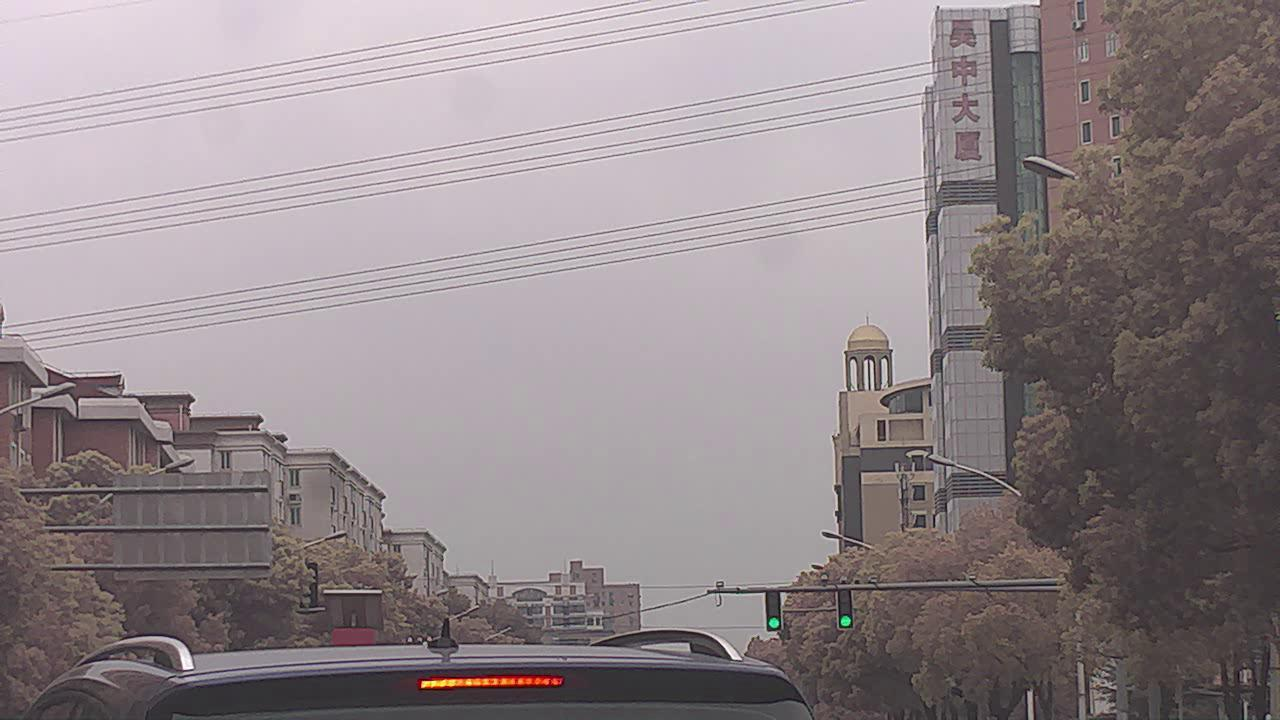traffic_light: (837, 588, 856, 627), (767, 590, 783, 634)
